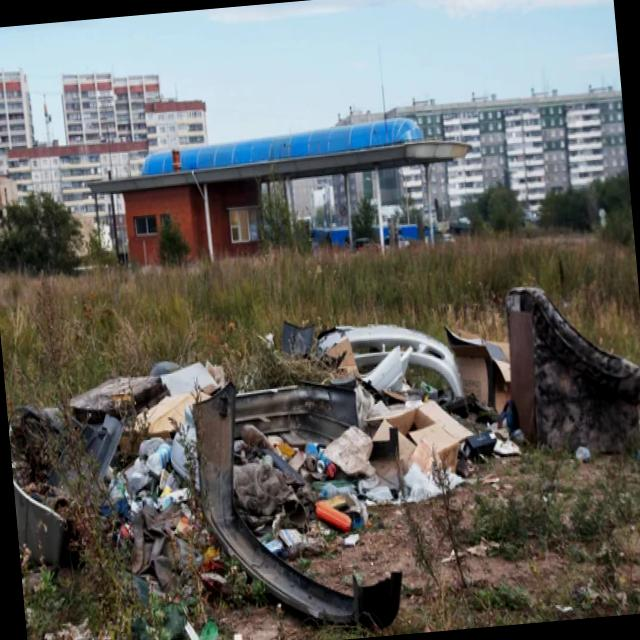garbage: (64, 318, 460, 598)
